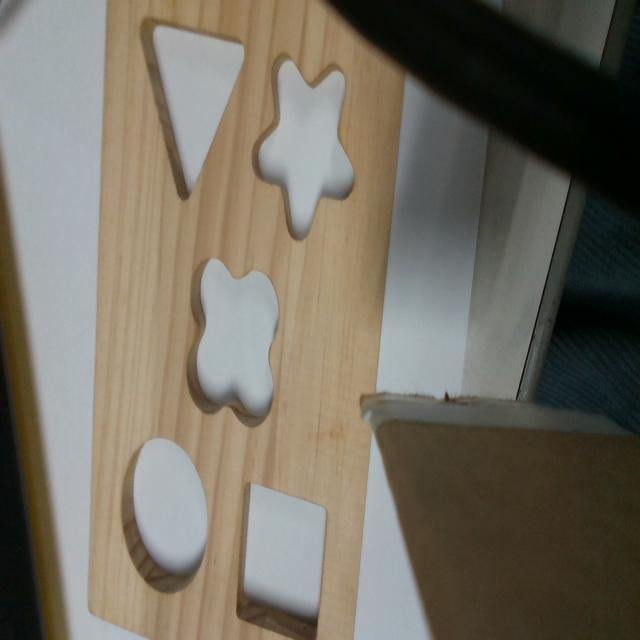circle: (121, 438, 209, 593)
flower: (185, 262, 279, 426)
square: (237, 481, 329, 639)
star: (255, 55, 356, 237)
triangle: (137, 14, 247, 201)
